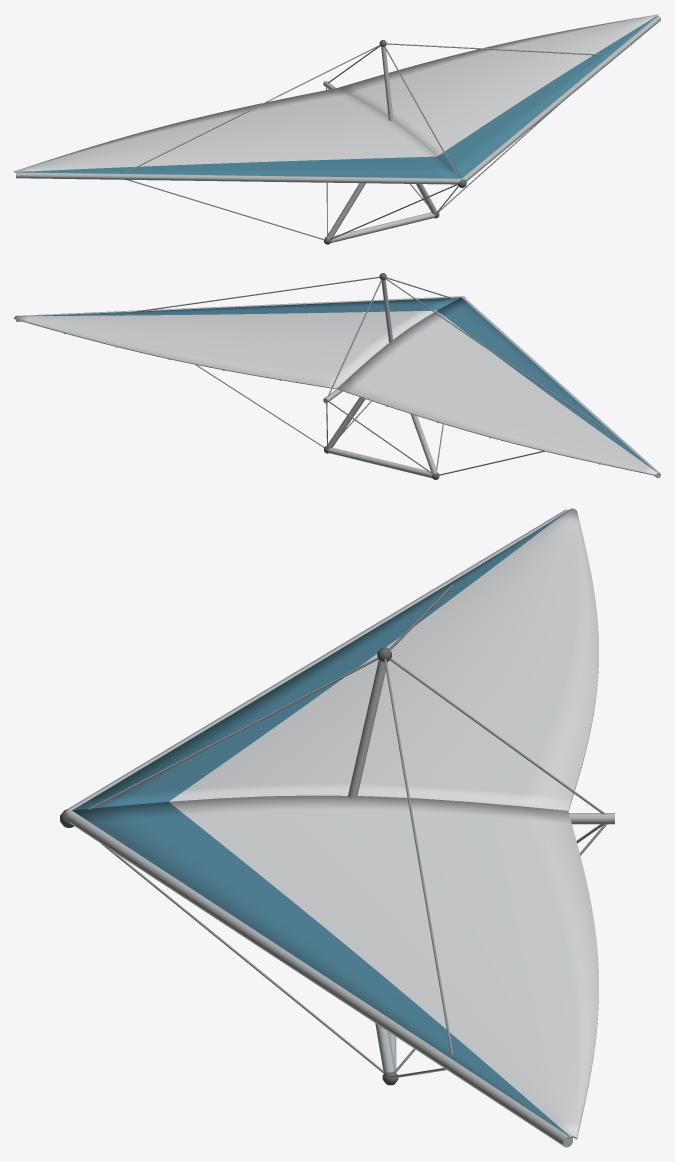
File: NEW469_hang_glider_LOD1.glb
3 renders of one model, top to bottom at view 1: azimuth 30°, elevation 25°; view 2: azimuth 150°, elevation 25°; view 3: azimuth 270°, elevation 25°, orthographic. The views are drawn at different scales.
Visible parts, largest first — view 1: Left closed sail, Right closed sail, Leading edge spar, Leading edge spar.001, Control basebar, Upper side wire, Upper side wire.001, Control-frame upright, Lower side wire, Kingpost; view 2: Left closed sail, Right closed sail, Leading edge spar.001, Control basebar, Leading edge spar, Upper side wire.001, Upper side wire, Control-frame upright, Control-frame upright.001, Kingpost; view 3: Right closed sail, Left closed sail, Leading edge spar.001, Leading edge spar, Kingpost, Upper side wire.001, Forward lower wire.001, Upper front wire.
Boxes of the visible parts, x1,y1,x2,y2 form: Left closed sail: (14,88,460,178); Right closed sail: (338,14,657,178); Leading edge spar: (16,172,461,184); Leading edge spar.001: (462,16,660,181); Control basebar: (331,212,435,242); Upper side wire: (125,45,380,172); Upper side wire.001: (386,43,607,55); Control-frame upright: (326,183,365,239); Lower side wire: (127,180,324,240); Kingpost: (381,47,393,120); Left closed sail: (337,297,658,475); Right closed sail: (14,297,460,389); Leading edge spar.001: (16,296,461,321); Control basebar: (328,447,432,478); Leading edge spar: (461,296,660,478); Upper side wire.001: (125,276,379,313); Upper side wire: (385,278,606,430); Control-frame upright: (410,414,437,473); Control-frame upright.001: (326,397,365,448); Kingpost: (381,280,393,342); Right closed sail: (72,795,598,1139); Left closed sail: (73,508,598,811); Leading edge spar.001: (66,810,572,1147); Leading edge spar: (66,509,568,810); Kingpost: (348,659,387,797); Upper side wire.001: (384,659,453,1055); Forward lower wire.001: (101,844,383,1073); Upper front wire: (88,657,378,809).
Size of the model in its own units: 10.14 by 2.89 by 3.78.
